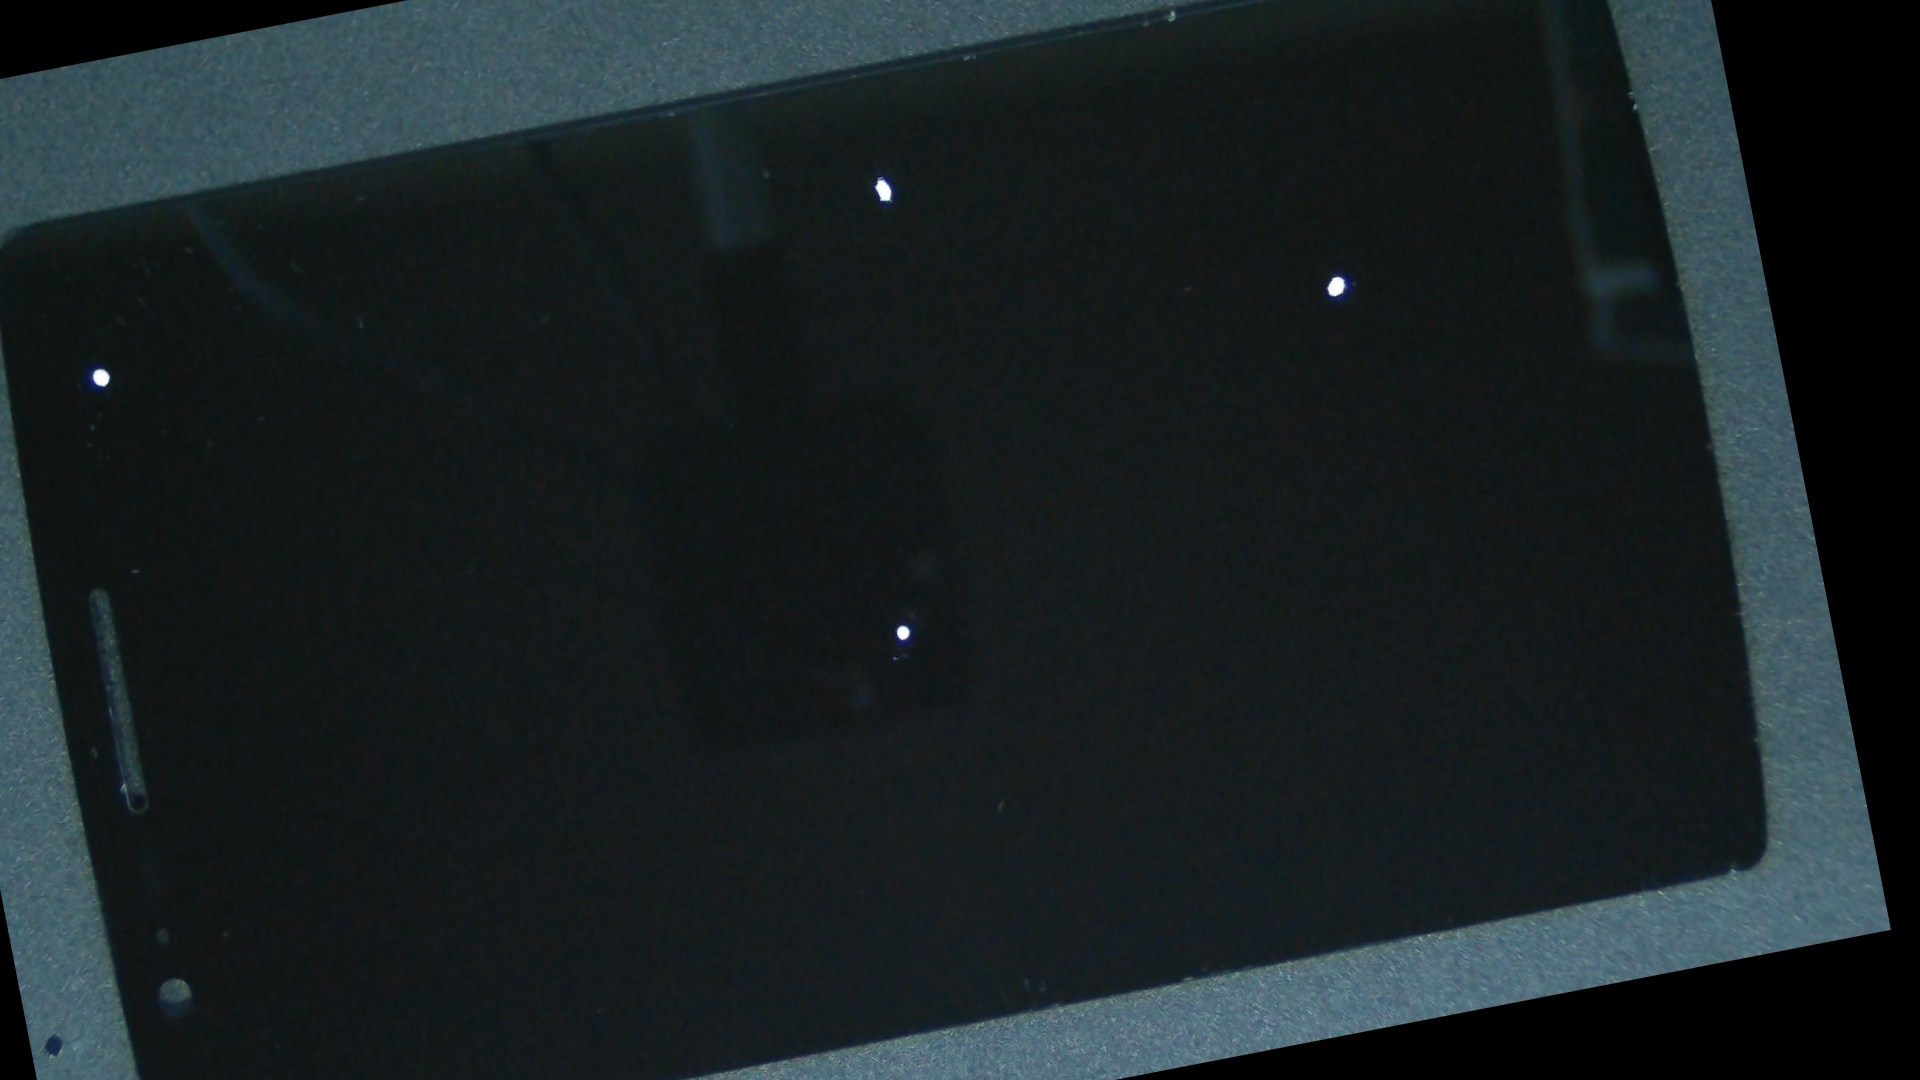oil: (375, 189, 1423, 1062), (595, 0, 1791, 629), (363, 0, 1389, 400), (0, 198, 229, 533)
